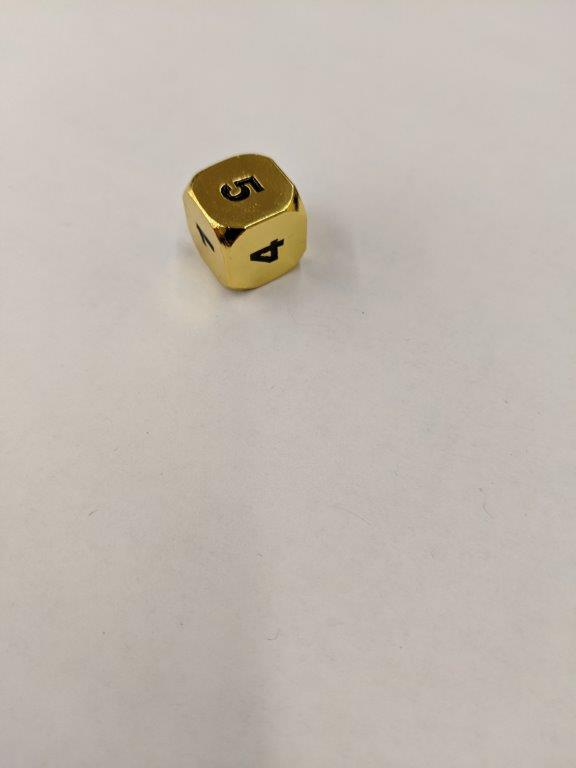d6-5: (180, 151, 308, 294)
